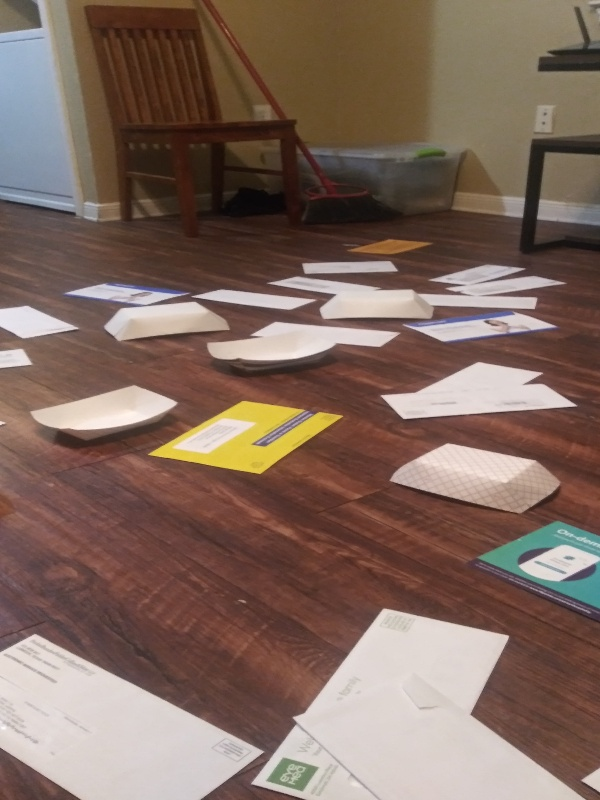plate: (386, 442, 565, 513), (23, 382, 181, 449), (202, 325, 341, 378), (100, 298, 229, 348), (318, 287, 434, 324)
